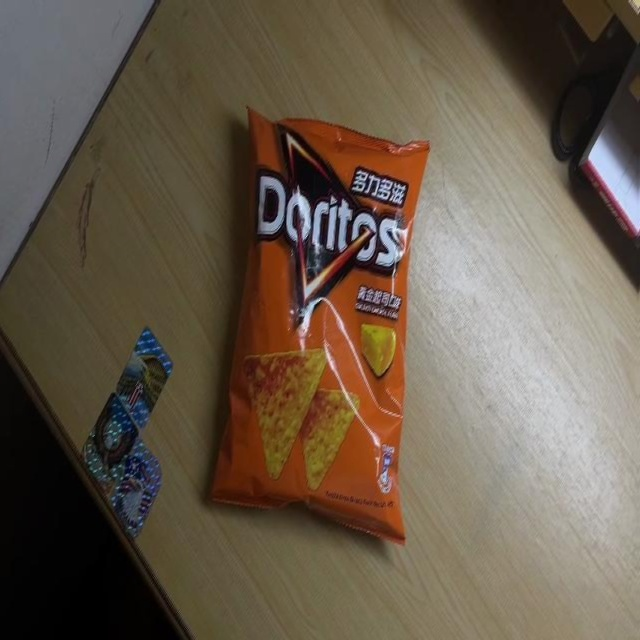Doritos: (215, 98, 431, 546)
